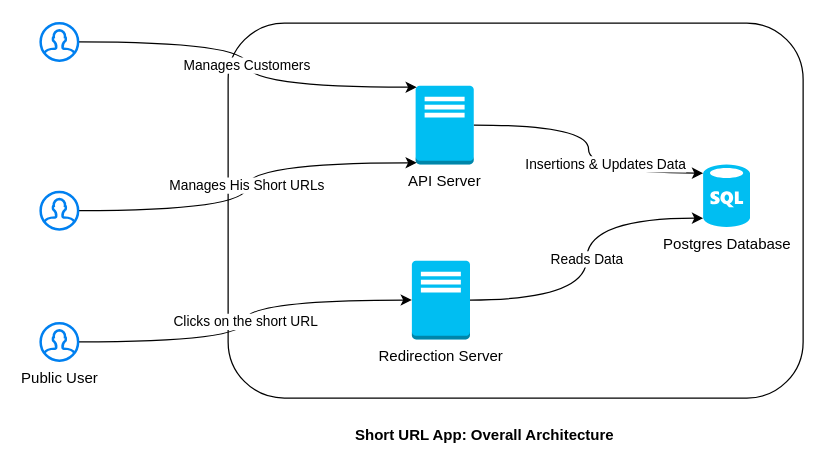
Some shapes in this 825 by 469 pixel diagram are drawn without their labels. Each missing label, with the box of its shape:
Admin: (39, 21, 79, 61)
Customer: (39, 190, 79, 230)
